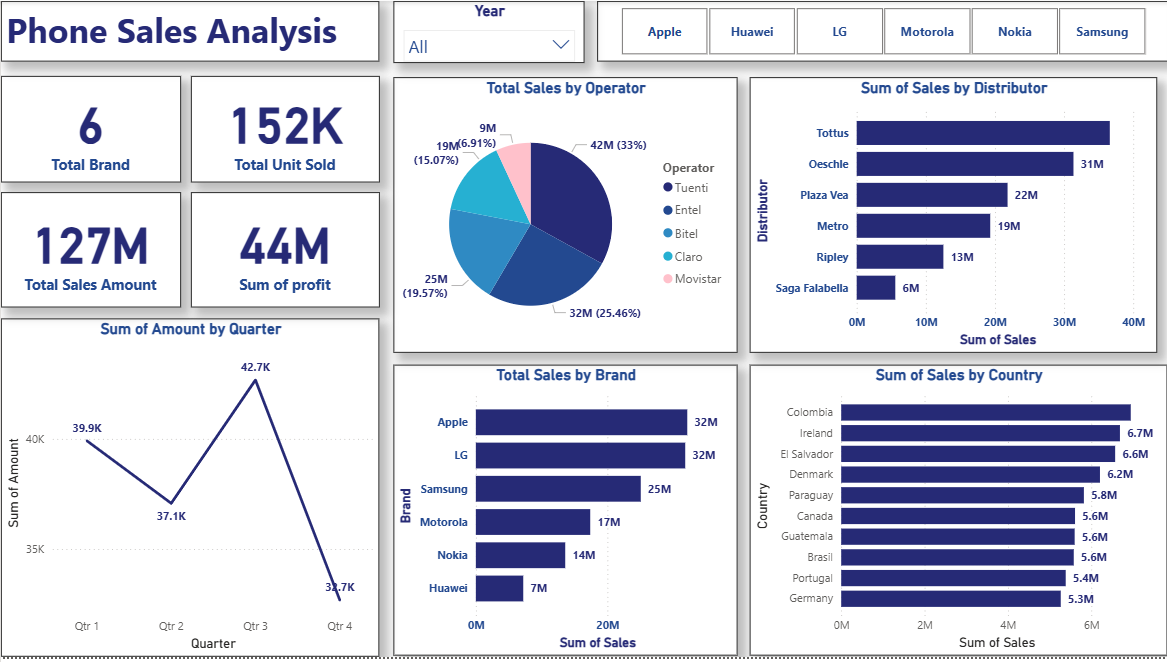

The dashboard page shown, as its layout file describes it:
{"tool":"powerbi","page":{"name":"Page 1","canvas":[1280,720],"ordinal":0},"visuals":[{"type":"clusteredBarChart","title":"Total Sales by Brand","fields":{"Category":["Phone Sales.Brand"],"Y":["Sum(Phone Sales.Sales)"]},"box":[430.6,400,377.8,319.4],"z":0},{"type":"pieChart","title":"Total Sales by Operator","fields":{"Y":["Sum(Phone Sales.Sales)"],"Category":["Phone Sales.Operator"]},"box":[430.6,83.3,377.8,302.8],"z":1000},{"type":"clusteredBarChart","fields":{"Category":["Phone Sales.Country"],"Y":["Sum(Phone Sales.Sales)"]},"box":[822.2,400,458.3,319.4],"z":2000},{"type":"lineChart","fields":{"Category":["Phone Sales.Date.Variation.Date Hierarchy.Quarter"],"Y":["Sum(Phone Sales.Amount)"]},"box":[0,348.6,415.3,370.8],"z":3000},{"type":"card","fields":{"Values":["Count(Phone Sales.Brand)"]},"box":[0,81.9,197.2,116.7],"z":3001},{"type":"clusteredBarChart","fields":{"Category":["Phone Sales.Distributor"],"Y":["Sum(Phone Sales.Sales)"]},"box":[822.2,83.3,447.2,302.8],"z":3002},{"type":"card","fields":{"Values":["Sum(Phone Sales.Sales)"]},"box":[0,209.7,197.2,126.4],"z":3003},{"type":"card","fields":{"Values":["Sum(Phone Sales.Amount)"]},"box":[208.3,81.9,206.9,116.7],"z":3004},{"type":"textbox","box":[0,0,415.3,66.7],"z":3005},{"type":"slicer","fields":{"Values":["Phone Sales.Brand"]},"box":[654.2,0,626.4,66.7],"z":3006},{"type":"slicer","title":"Year","fields":{"Values":["Phone Sales.Year"]},"box":[430.6,0,209.7,68.1],"z":3007},{"type":"card","fields":{"Values":["Sum(Phone Sales.profit)"]},"box":[208.3,209.7,206.9,126.4],"z":3008}]}

Visuals, with their boxes in screenshot pixels (x1, y1, x2, y2), scaled from the page's 1280x720 canvas onto the 1167x662 screenshot:
"Total Sales by Brand" clusteredBarChart: [x1=393, y1=368, x2=737, y2=661]
"Total Sales by Operator" pieChart: [x1=393, y1=77, x2=737, y2=355]
clusteredBarChart - Phone Sales.Country x Sum(Phone Sales.Sales): [x1=750, y1=368, x2=1166, y2=661]
lineChart - Phone Sales.Date.Variation.Date Hierarchy.Quarter x Sum(Phone Sales.Amount): [x1=0, y1=321, x2=379, y2=661]
card - Count(Phone Sales.Brand): [x1=0, y1=75, x2=180, y2=183]
clusteredBarChart - Phone Sales.Distributor x Sum(Phone Sales.Sales): [x1=750, y1=77, x2=1157, y2=355]
card - Sum(Phone Sales.Sales): [x1=0, y1=193, x2=180, y2=309]
card - Sum(Phone Sales.Amount): [x1=190, y1=75, x2=379, y2=183]
textbox: [x1=0, y1=0, x2=379, y2=61]
slicer - Phone Sales.Brand: [x1=596, y1=0, x2=1166, y2=61]
"Year" slicer: [x1=393, y1=0, x2=584, y2=63]
card - Sum(Phone Sales.profit): [x1=190, y1=193, x2=379, y2=309]
